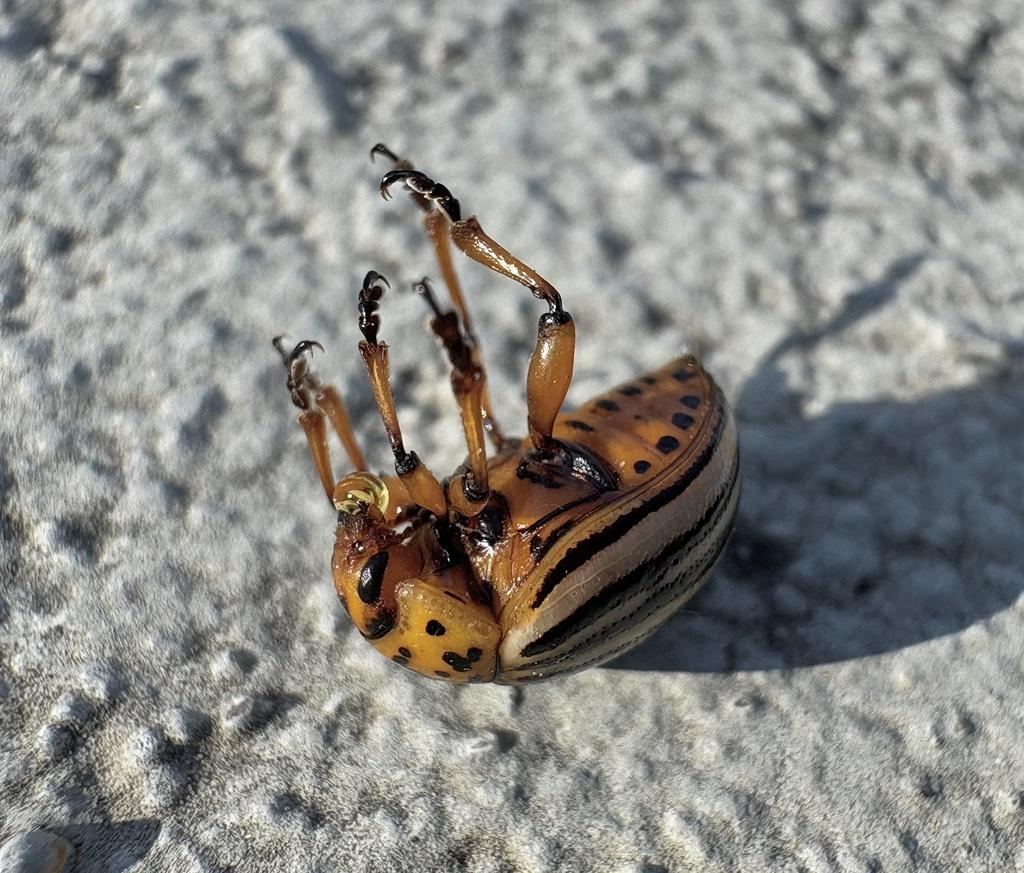potato_beetle: (200, 110, 902, 791)
